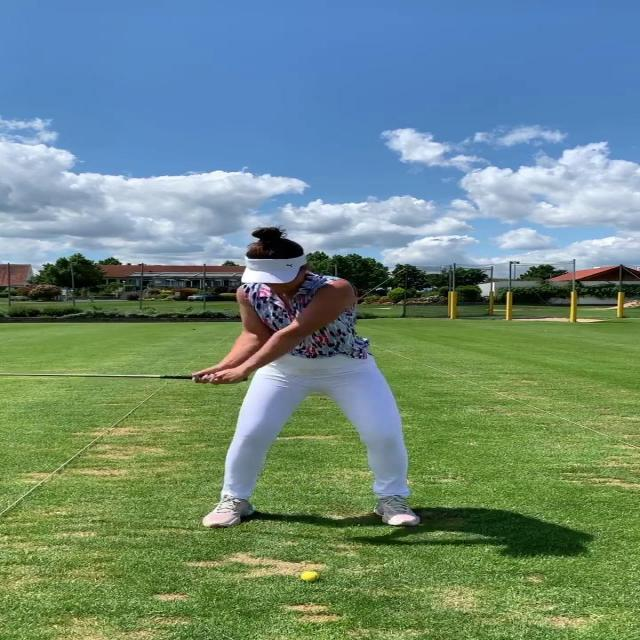golf ball: (300, 571, 318, 581)
golf club-handle: (0, 373, 249, 381)
